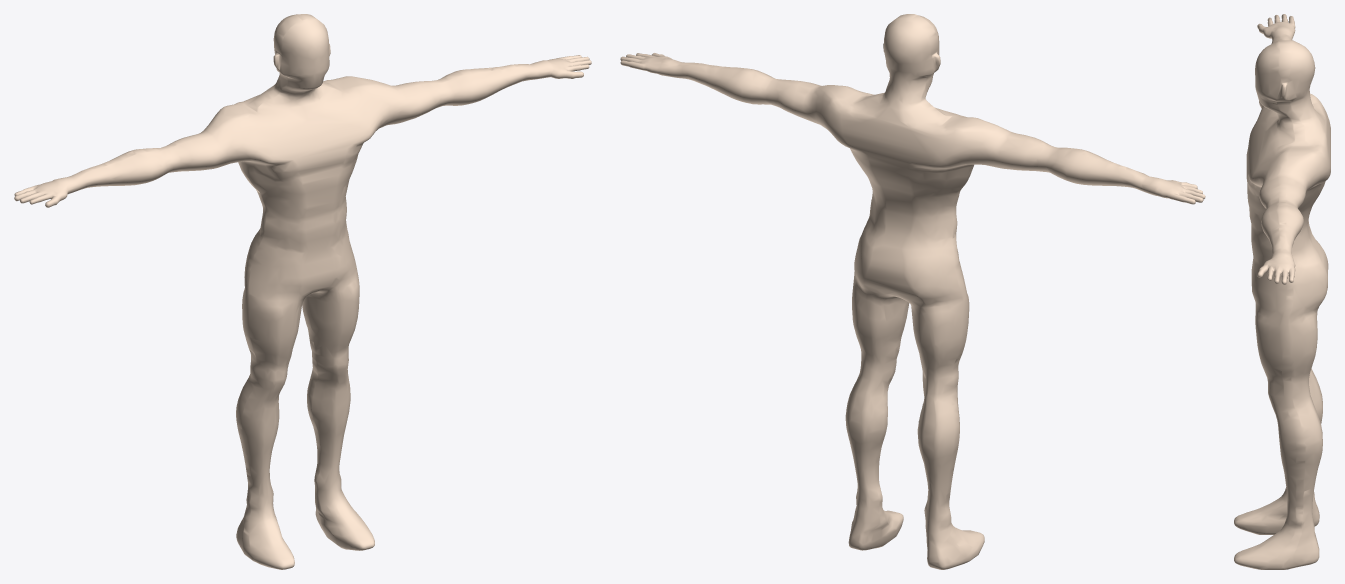
The model's file is male-uv-body.glb.
3 renders of one model, left to right at view 1: azimuth 30°, elevation 25°; view 2: azimuth 150°, elevation 25°; view 3: azimuth 270°, elevation 25°, orthographic. The views are drawn at different scales.
Visible parts, largest first — view 1: geometry_0; view 2: geometry_0; view 3: geometry_0.
Part boxes in pixels (bbox=[...]): geometry_0: bbox=[14, 14, 591, 569]; geometry_0: bbox=[620, 14, 1205, 569]; geometry_0: bbox=[1234, 14, 1330, 569].
Size of the model in its own units: 2.03 by 1.79 by 0.3113.
